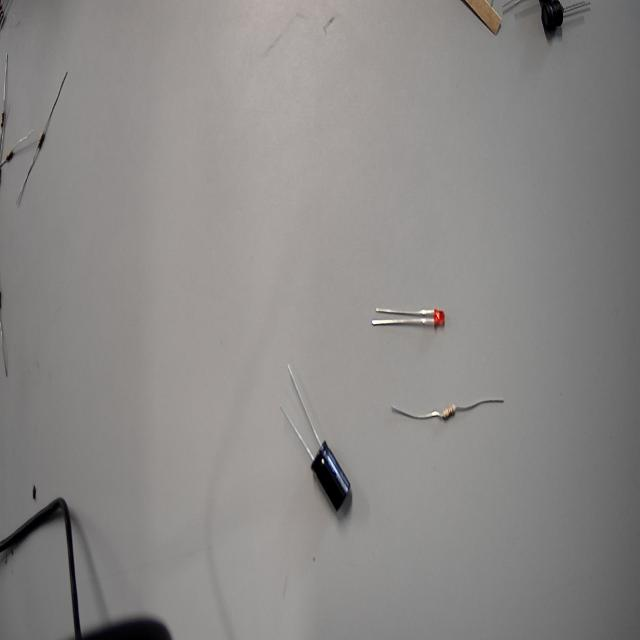LED_red: (425, 291, 456, 339)
capacitor_L: (303, 424, 362, 531)
resistor: (438, 385, 462, 431)
